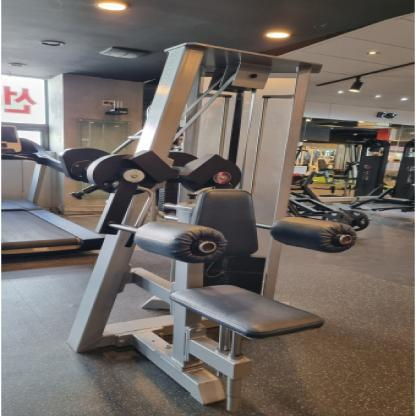lateral raises machine: (70, 144, 359, 415)
